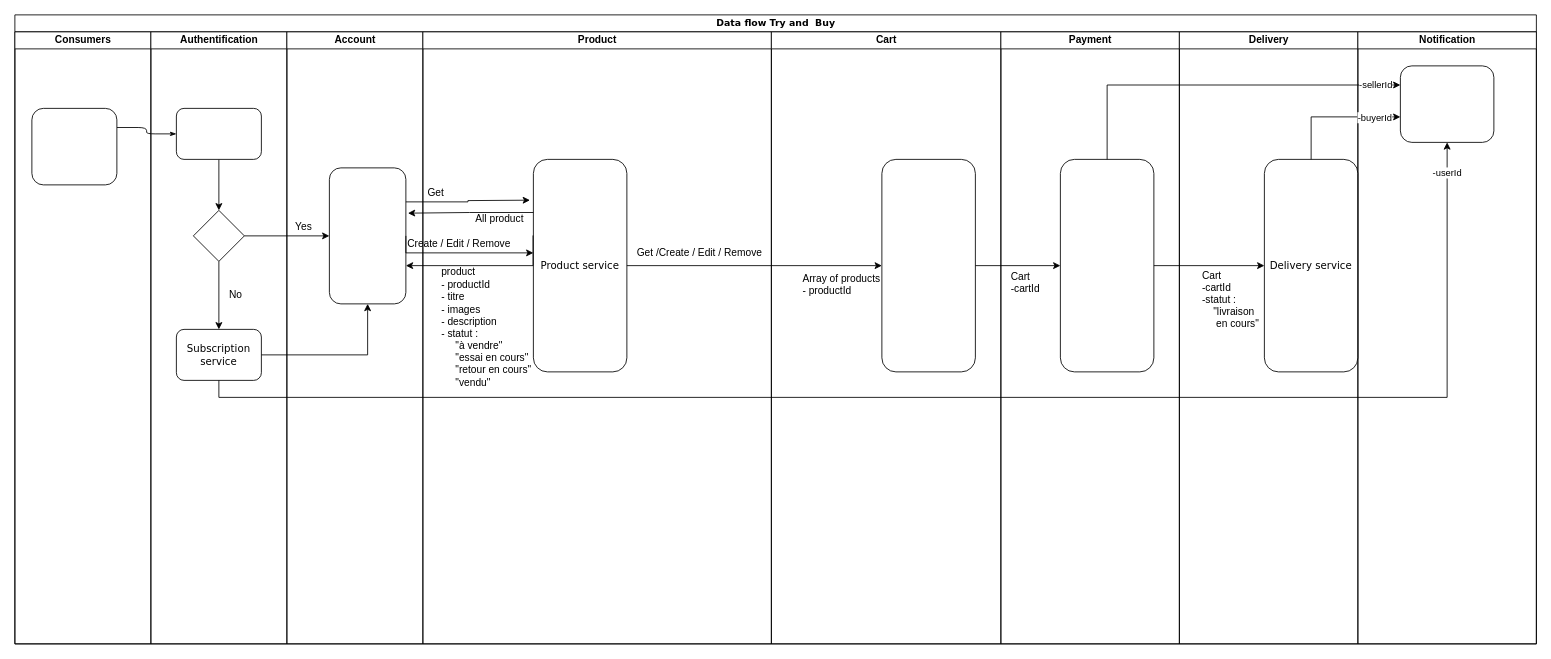
Some shapes in this 1551 by 659 pixel diagram are drawn without their labels. Here are the shapes that lost their labels. From the top down, the centre of each, then its label:
At pixel 1447 103: "Notification service".
At pixel 74 146: "Users".
At pixel 218 133: "Authentification service".
At pixel 367 235: "Account service".
At pixel 928 265: "Cart service".
At pixel 1107 265: "Payment service".
